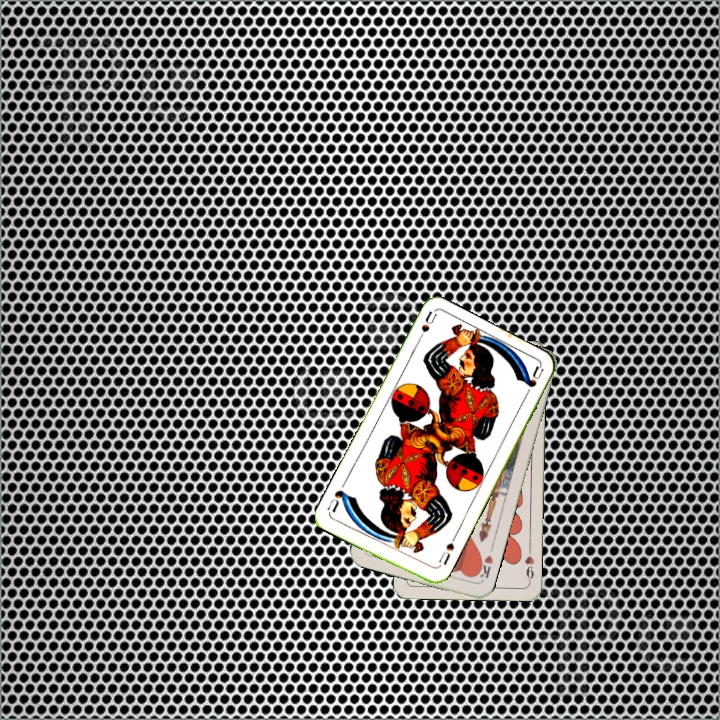H9: (521, 544, 537, 585)
HK: (472, 551, 496, 584)
SU: (412, 308, 439, 347), (434, 538, 457, 568)
